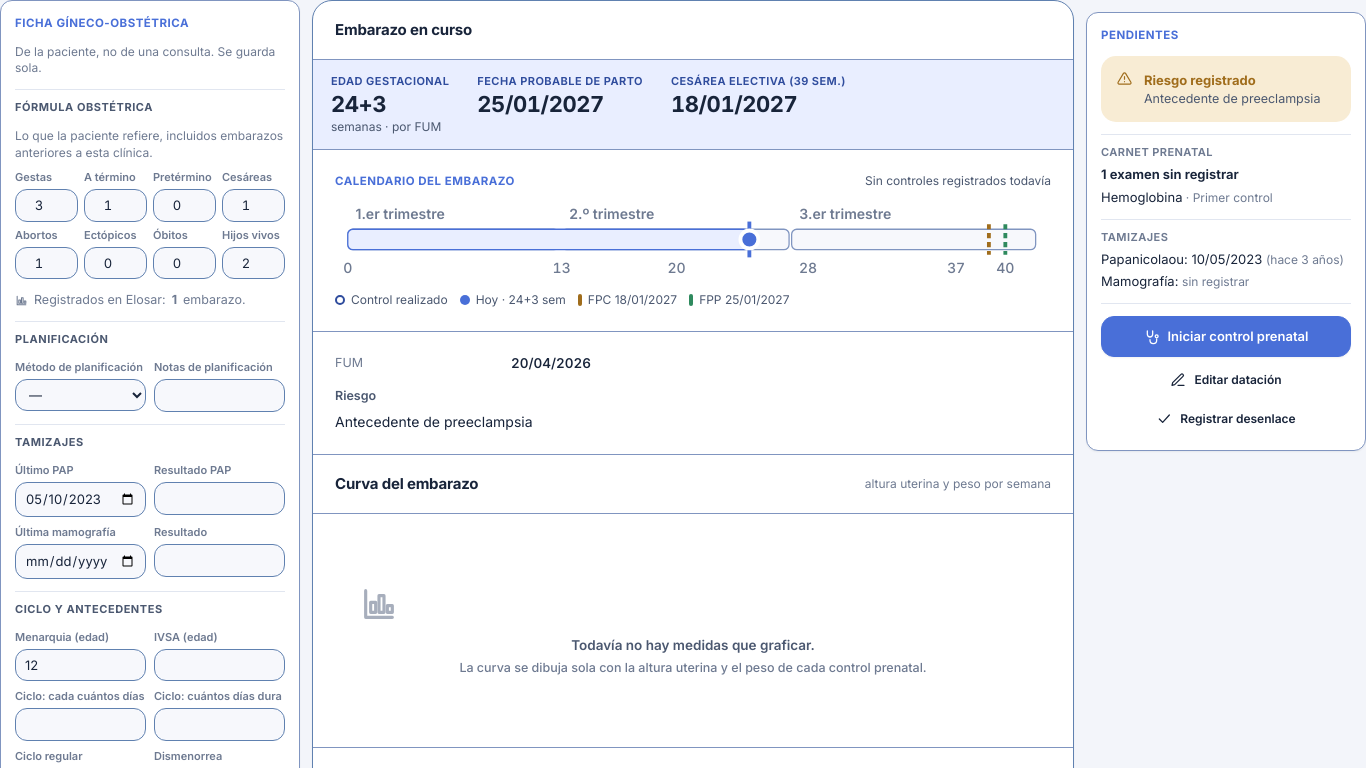
Test case: PatientGynecoTab — one screen, nothing lost › keeps dating and outcome for the active pregnancy, in the pending column
What coordinates should you click on to do the following:
click the button "Editar datación"
I would click on:
 (1226, 380)
Its box is [1101, 363, 1351, 396].
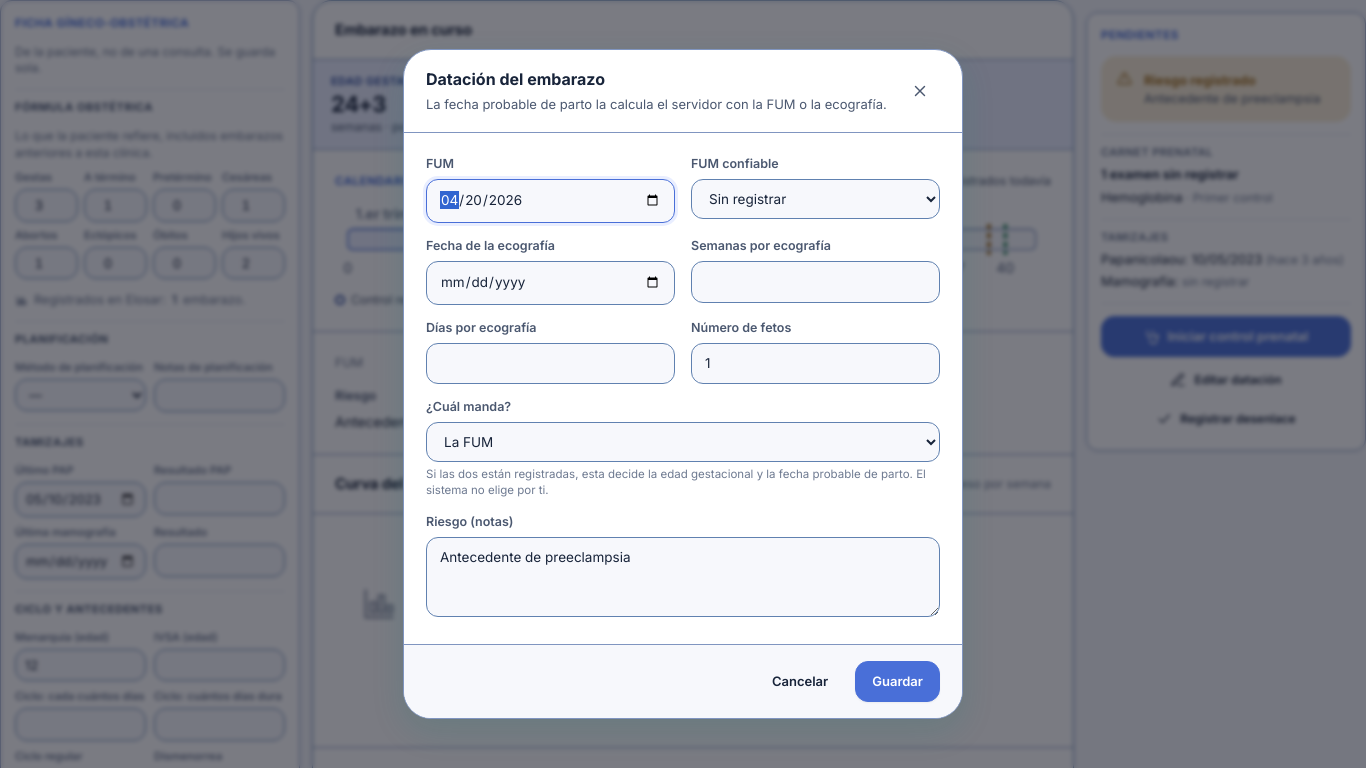
Check: the dialog "Datación del embarazo" is shown, box [403, 49, 963, 719]
What coordinates should you click on to do the following:
click the button "Cancelar"
I would click on:
 (800, 681)
Its box is [755, 661, 845, 702].
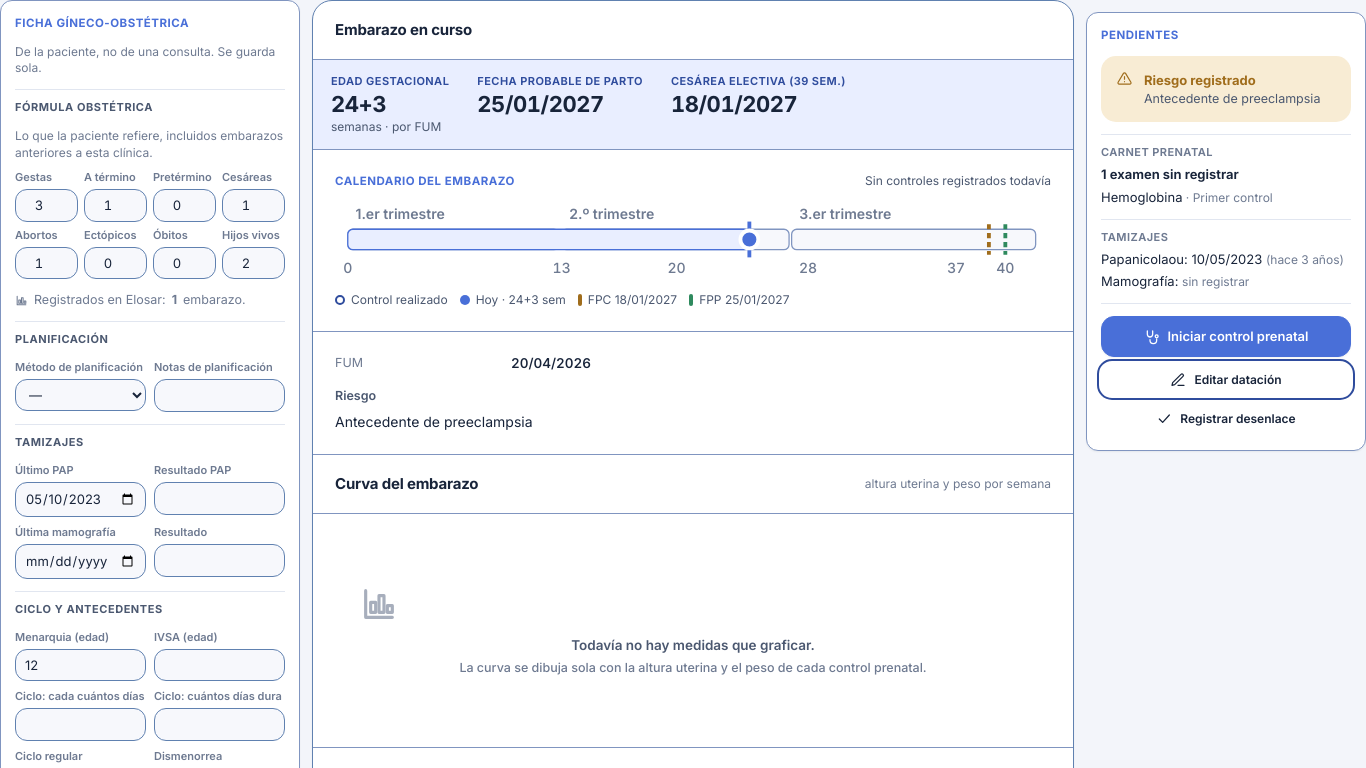
What coordinates should you click on to do the following:
click the button "Registrar desenlace"
I would click on:
 (1226, 419)
Its box is [1101, 402, 1351, 436].
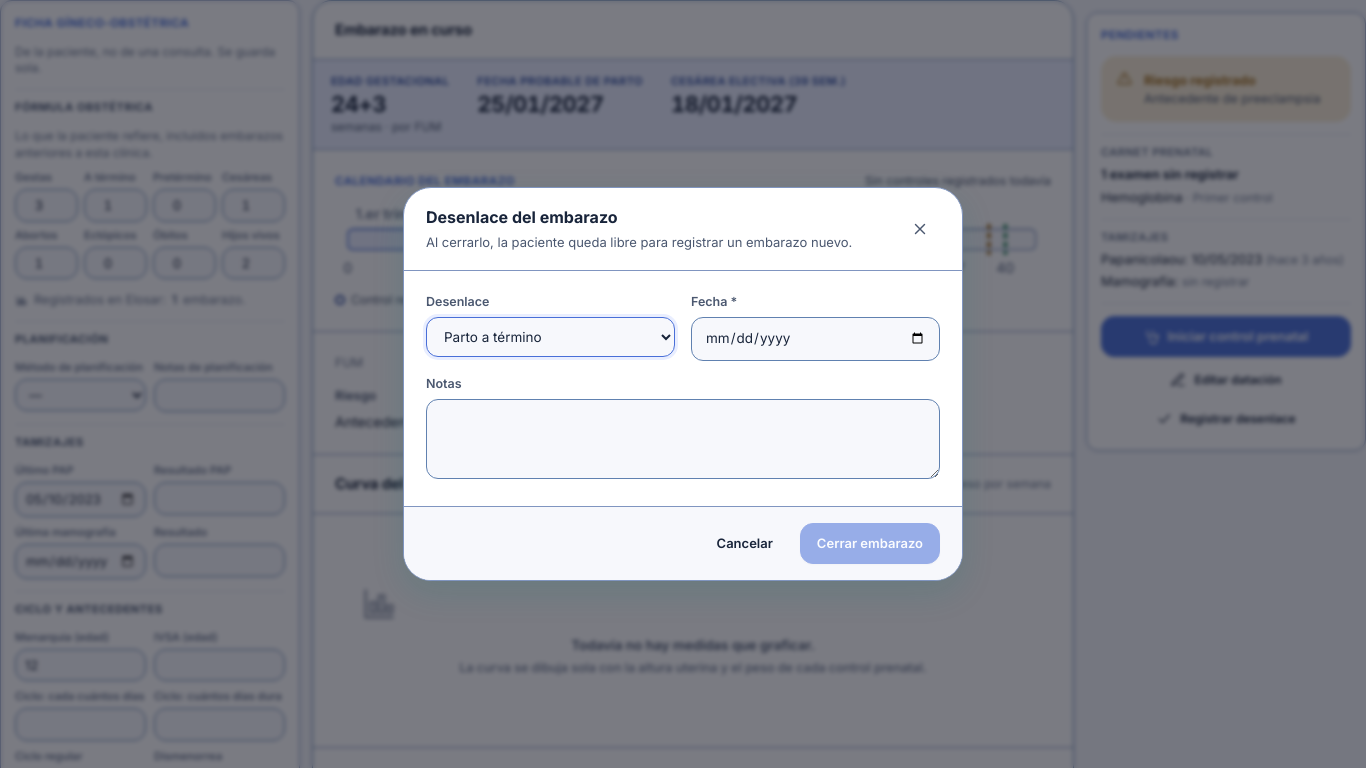
Check: the dialog "Desenlace del embarazo" is shown, box [403, 187, 963, 581]
